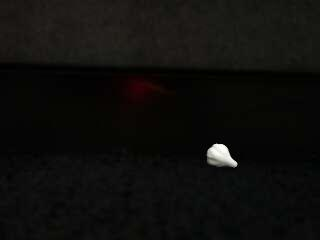Garlic: (207, 143, 240, 169)
